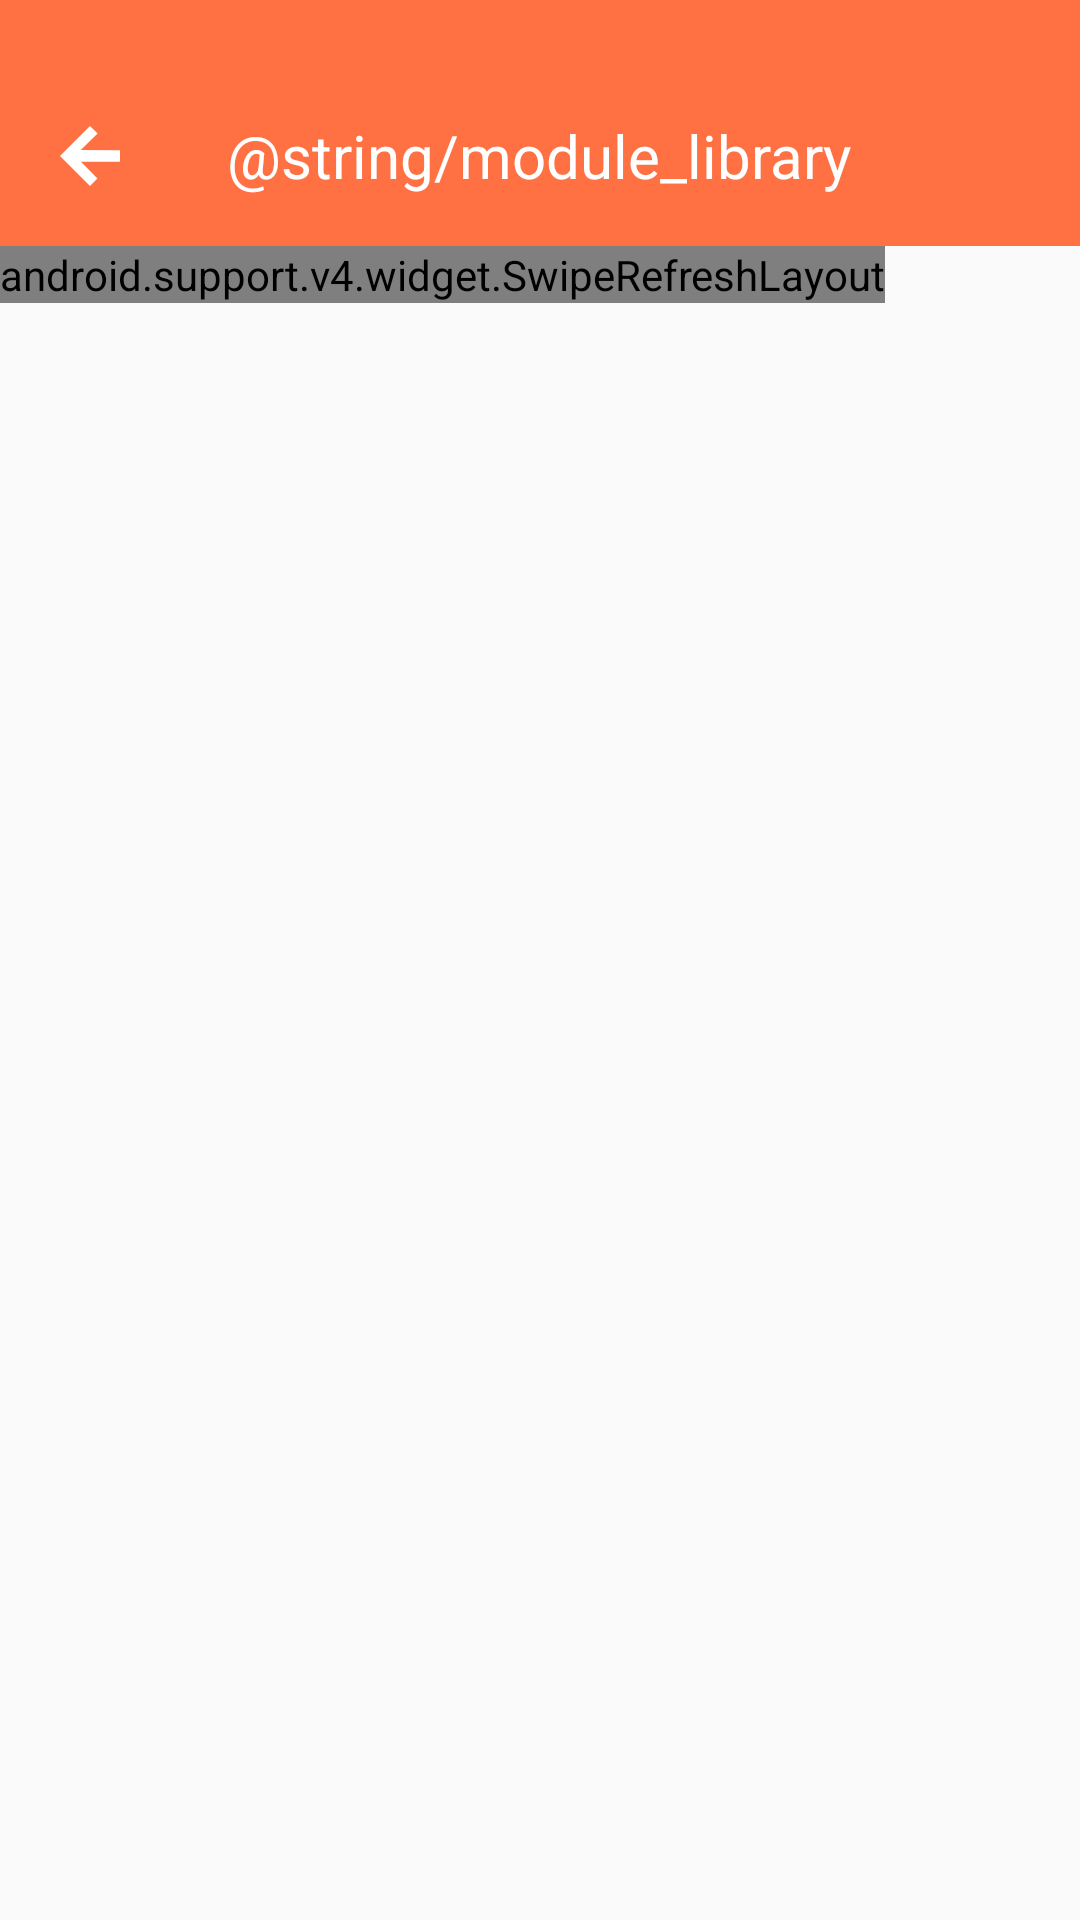

Named icons in this screenshot (1080px×1920px) and their centers, (x,y):
back: (90,156)
